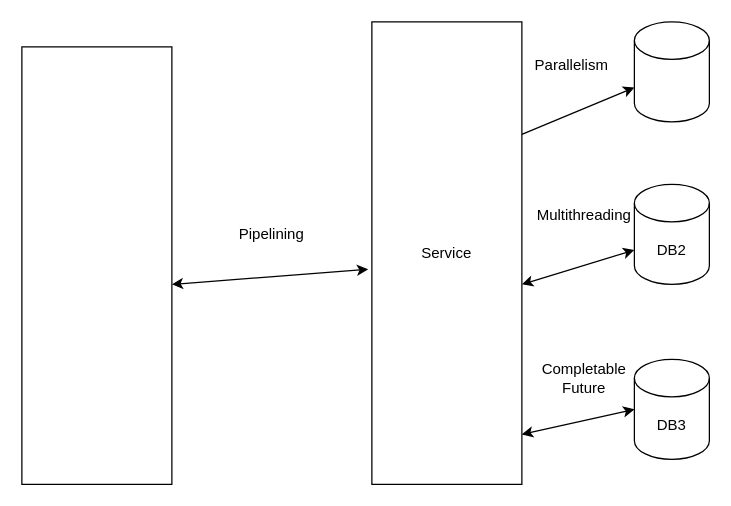
The diagram is 731 pixels wide and 506 high, and some of its shapes have lost their labels. The shapes that lost their labels are listed below. From the top down, each one's centre as x and y in pixels, then its label:
pixel 671 71: DB1
pixel 96 265: REDIS
